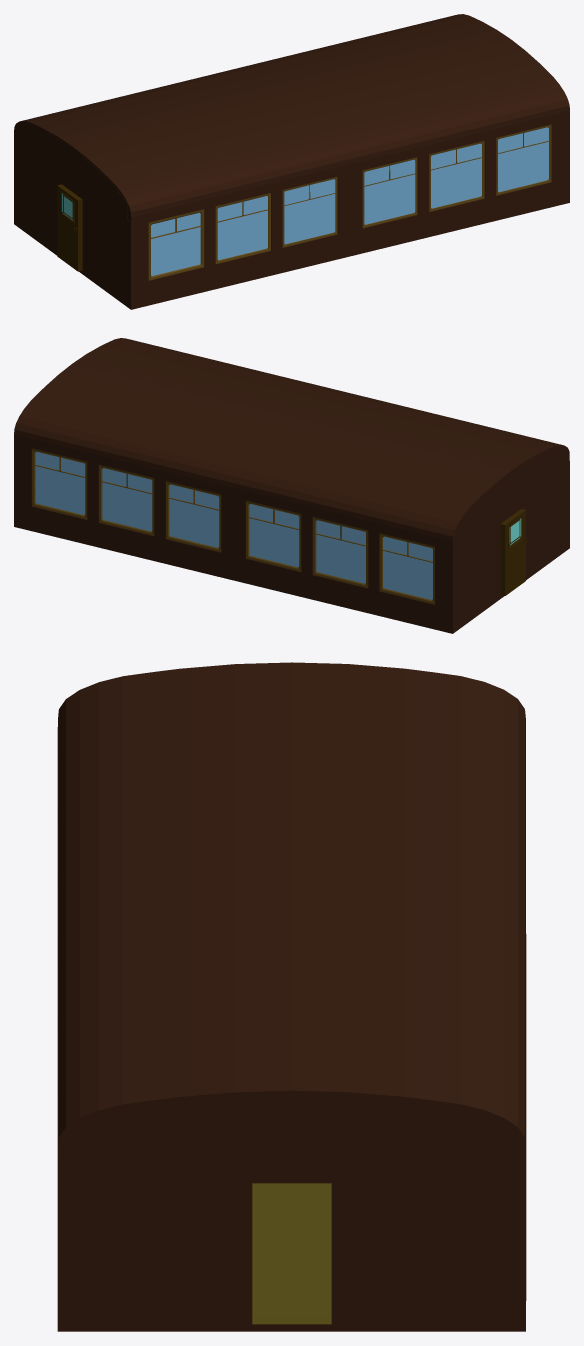
Rendered from BaseWagon.fbx.
3 views of the same model, one above another, from view 1: azimuth 30°, elevation 25°; view 2: azimuth 150°, elevation 25°; view 3: azimuth 270°, elevation 25° (orthographic). The views are drawn at different scales.
Visible parts, largest first — view 1: SeatWagon, WindowGlass.008, WindowGlass.009, WindowGlass.011, WindowGlass.010, WindowGlass.007, WindowGlass.006, Cube.001; view 2: SeatWagon, WindowGlass.004, WindowGlass.005, WindowGlass.003, WindowGlass.002, WindowGlass, WindowGlass.001, Cube.001; view 3: SeatWagon.
Boxes of the visible parts, left/top/right/bottom form: SeatWagon: left=14, top=14, right=569, bottom=309; WindowGlass.008: left=284, top=179, right=335, bottom=244; WindowGlass.009: left=364, top=159, right=415, bottom=224; WindowGlass.011: left=498, top=127, right=548, bottom=192; WindowGlass.010: left=431, top=143, right=481, bottom=208; WindowGlass.007: left=217, top=196, right=267, bottom=260; WindowGlass.006: left=151, top=212, right=200, bottom=275; Cube.001: left=57, top=184, right=82, bottom=271; SeatWagon: left=14, top=338, right=569, bottom=633; WindowGlass.004: left=102, top=468, right=152, bottom=531; WindowGlass.005: left=35, top=451, right=85, bottom=515; WindowGlass.003: left=169, top=484, right=219, bottom=547; WindowGlass.002: left=249, top=504, right=299, bottom=567; WindowGlass: left=383, top=536, right=432, bottom=599; WindowGlass.001: left=316, top=520, right=365, bottom=583; Cube.001: left=500, top=509, right=526, bottom=595; SeatWagon: left=57, top=662, right=526, bottom=1331.
Bounding box in the file's own units: 2804 × 1591 × 6148.
